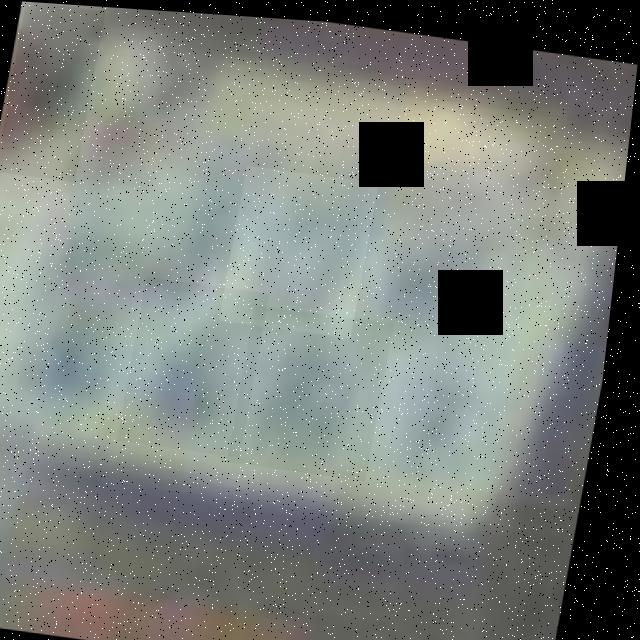7: (368, 343, 515, 483)
8: (235, 300, 401, 477)
D: (225, 161, 383, 333)
E: (126, 274, 276, 454)
N: (0, 1, 105, 182)
